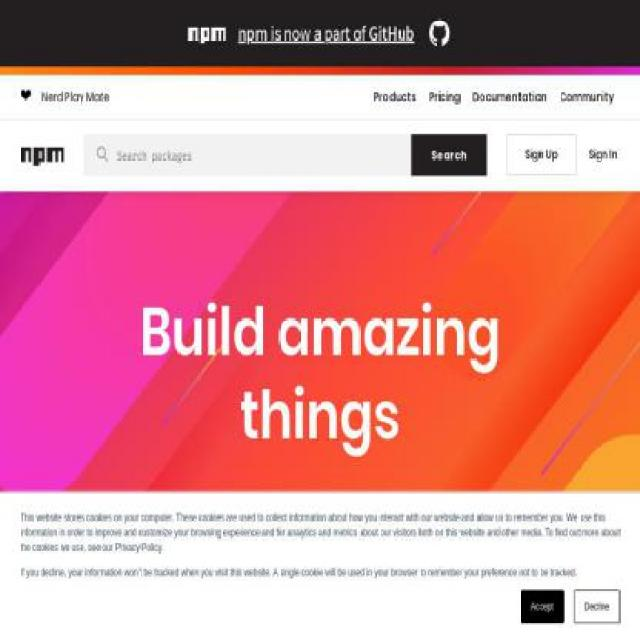button: (411, 135, 487, 176), (507, 134, 576, 175), (466, 81, 554, 112), (553, 81, 621, 112), (368, 81, 423, 112), (573, 590, 621, 624), (519, 590, 564, 624), (422, 81, 467, 112), (586, 142, 620, 167)
field: (111, 138, 409, 172)
